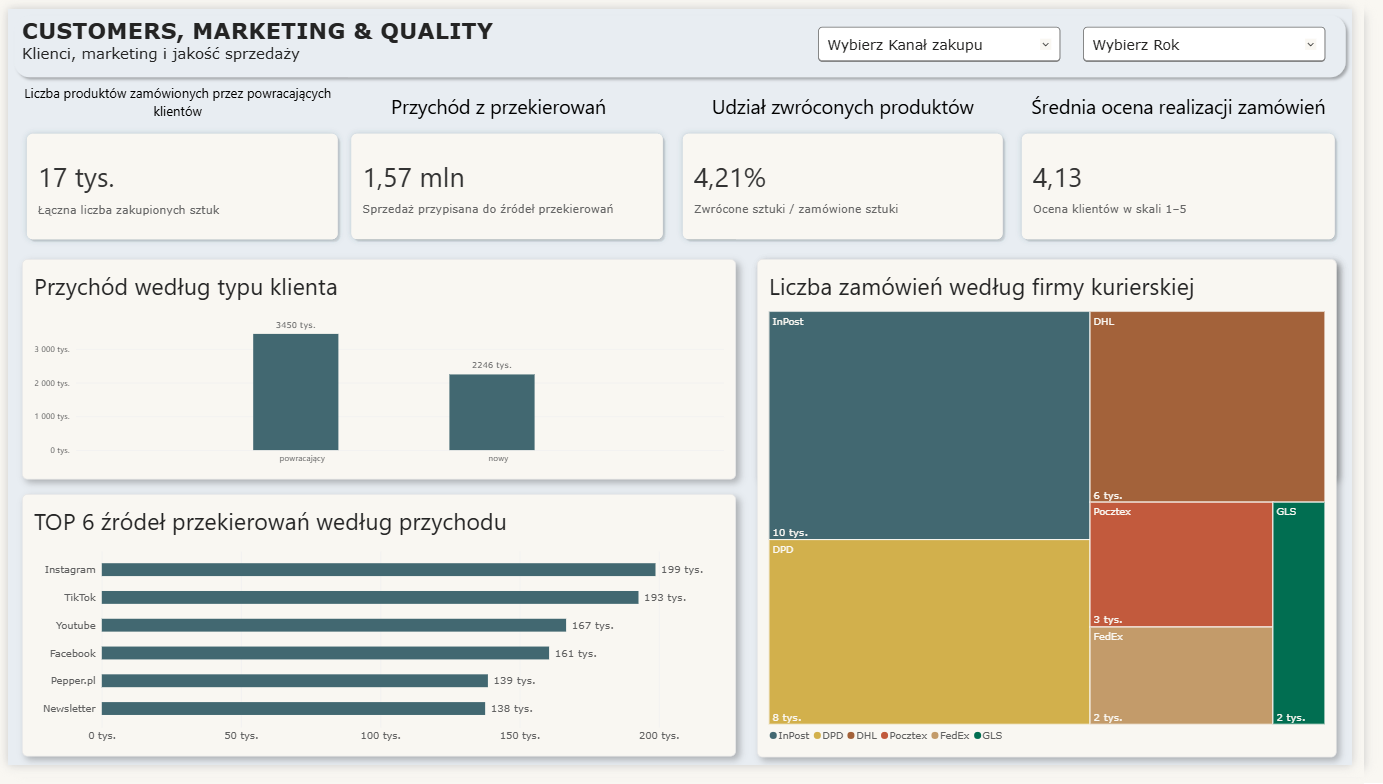

Layout of this report page (visuals, bound fields, positions):
{"tool":"powerbi","page":{"name":"Strona 3","canvas":[1920,1080],"ordinal":2},"visuals":[{"type":"shape","box":[0,0,1920,106.7],"z":0},{"type":"textbox","box":[20,11.7,1900,95],"z":1000},{"type":"cardVisual","title":"Liczba produktów zamówionych przez powracających klientów","fields":{"Data":["Sum(dane.Liczba zamówionych produktów)"],"Rows":["dane.Typ klienta"]},"box":[0,106.7,485,236.7],"z":2000},{"type":"cardVisual","title":"Przychód z przekierowań","fields":{"Data":["Sum(dane.Przychód)"],"Rows":["dane.Zakup z przekierowania"]},"box":[451.7,120,498.3,223.3],"z":3000},{"type":"cardVisual","title":"Udział zwróconych produktów","fields":{"Data":["Kalendarz.22Suma elementów Liczba zwróconych produktów podzielić przez Suma elementów Liczba zamówionych produktów"]},"box":[950,120,485,223.3],"z":4000},{"type":"cardVisual","title":"Średnia ocena realizacji zamówień","fields":{"Data":["Avg(dane.Ocena realizacji zamówienia)"]},"box":[1435,120,475,223.3],"z":5000},{"type":"clusteredColumnChart","title":"Przychód według typu klienta","fields":{"Category":["dane.Typ klienta"],"Y":["Sum(dane.Przychód)"]},"box":[20,356.7,1020,315],"z":6000},{"type":"barChart","title":"TOP 6 źródeł przekierowań według przychodu","fields":{"Category":["dane.Źródło przekierowania"],"Y":["Sum(dane.Przychód)"]},"box":[20,693.3,1020,375],"z":7000},{"type":"funnel","title":"Średni przychód na zamówienie — promocje vs brak promocji","fields":{"Category":["dane.Zakup w okresie promocji"],"Y":["Avg(dane.Przychód)"]},"box":[1070,356.7,828.3,315],"z":8000},{"type":"treemap","title":"Liczba zamówień według firmy kurierskiej","fields":{"Group":["dane.Firma dostawcza"],"Values":["Sum(dane.Liczba zamówionych produktów)"]},"box":[1070,356.7,828.3,711.7],"z":9000},{"type":"listSlicer","fields":{"Values":["dane.Kanał zakupu"]},"box":[1141.7,11.7,378.3,95],"z":10000},{"type":"listSlicer","fields":{"Values":["dane.Data zamówienia.Variation.Hierarchia dat.Rok"]},"box":[1520,11.7,378.3,95],"z":11000}]}

Visuals, with their boxes in screenshot pixels (x1, y1, x2, y2), scaled from the page's 1920x1080 canvas onto the 1383x784 screenshot:
shape: [0, 0, 1382, 77]
textbox: [14, 8, 1382, 77]
"Liczba produktów zamówionych przez powracających klientów" cardVisual: [0, 77, 349, 249]
"Przychód z przekierowań" cardVisual: [325, 87, 684, 249]
"Udział zwróconych produktów" cardVisual: [684, 87, 1034, 249]
"Średnia ocena realizacji zamówień" cardVisual: [1034, 87, 1376, 249]
"Przychód według typu klienta" clusteredColumnChart: [14, 259, 749, 488]
"TOP 6 źródeł przekierowań według przychodu" barChart: [14, 503, 749, 776]
"Średni przychód na zamówienie — promocje vs brak promocji" funnel: [771, 259, 1367, 488]
"Liczba zamówień według firmy kurierskiej" treemap: [771, 259, 1367, 776]
listSlicer - dane.Kanał zakupu: [822, 8, 1095, 77]
listSlicer - dane.Data zamówienia.Variation.Hierarchia dat.Rok: [1095, 8, 1367, 77]
